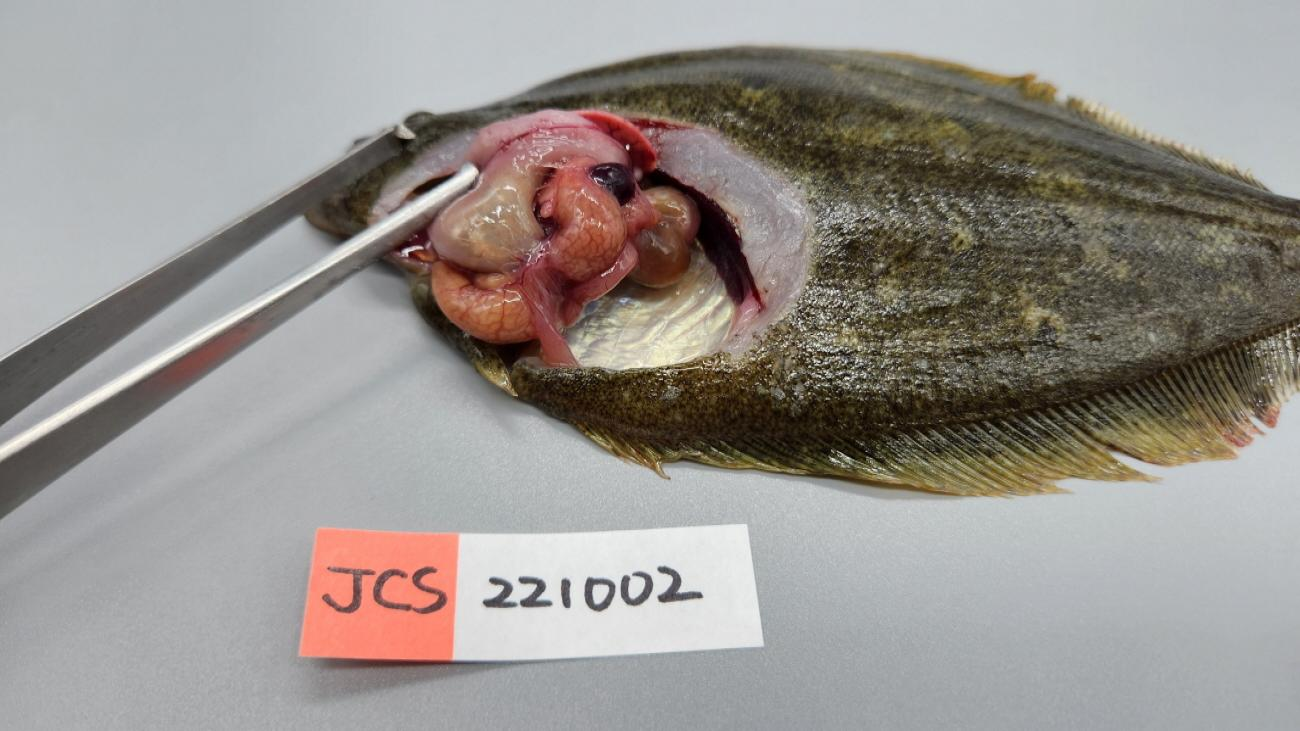POINN: (559, 240, 638, 328)
POSPN: (589, 163, 637, 207)
